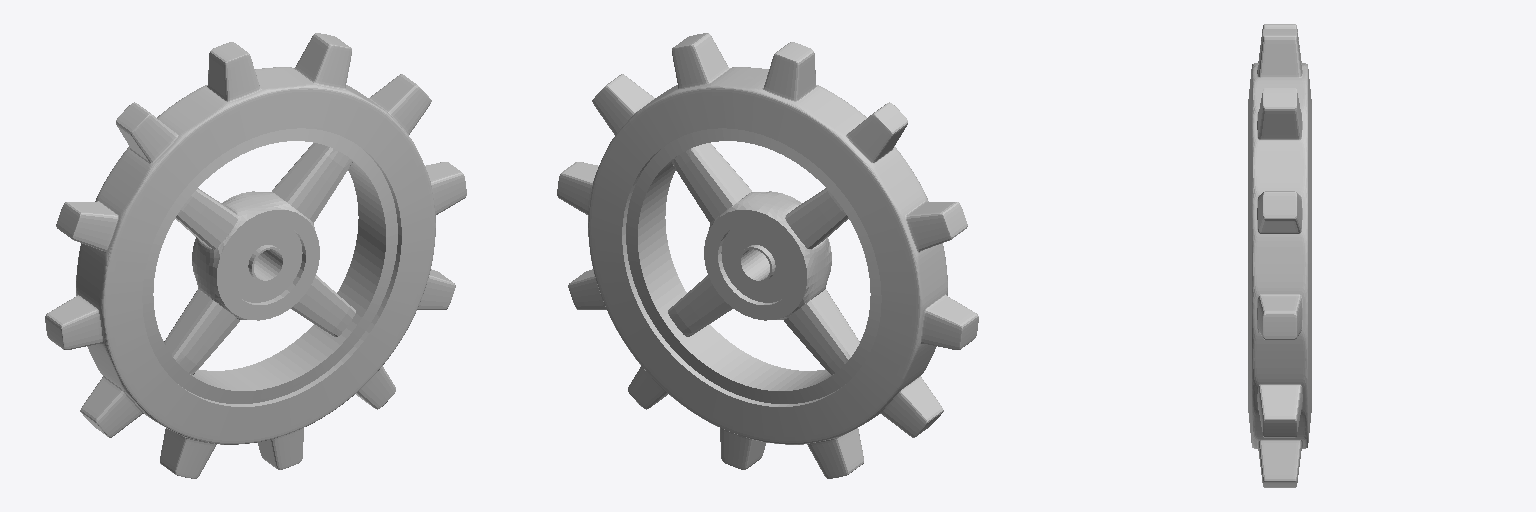
The model's file is Gear1.obj.
3 views of the same model, side by side, from view 1: azimuth 30°, elevation 25°; view 2: azimuth 150°, elevation 25°; view 3: azimuth 270°, elevation 25° (orthographic).
Parts seen in each view (by area): view 1: Cylinder.013_Cylinder.028; view 2: Cylinder.013_Cylinder.028; view 3: Cylinder.013_Cylinder.028.
Boxes of the visible parts, <box> form: Cylinder.013_Cylinder.028: <box>45,33,466,478</box>; Cylinder.013_Cylinder.028: <box>557,33,978,478</box>; Cylinder.013_Cylinder.028: <box>1248,24,1311,487</box>.
Bounding box in the file's own units: 2.55 × 2.55 × 0.3504.